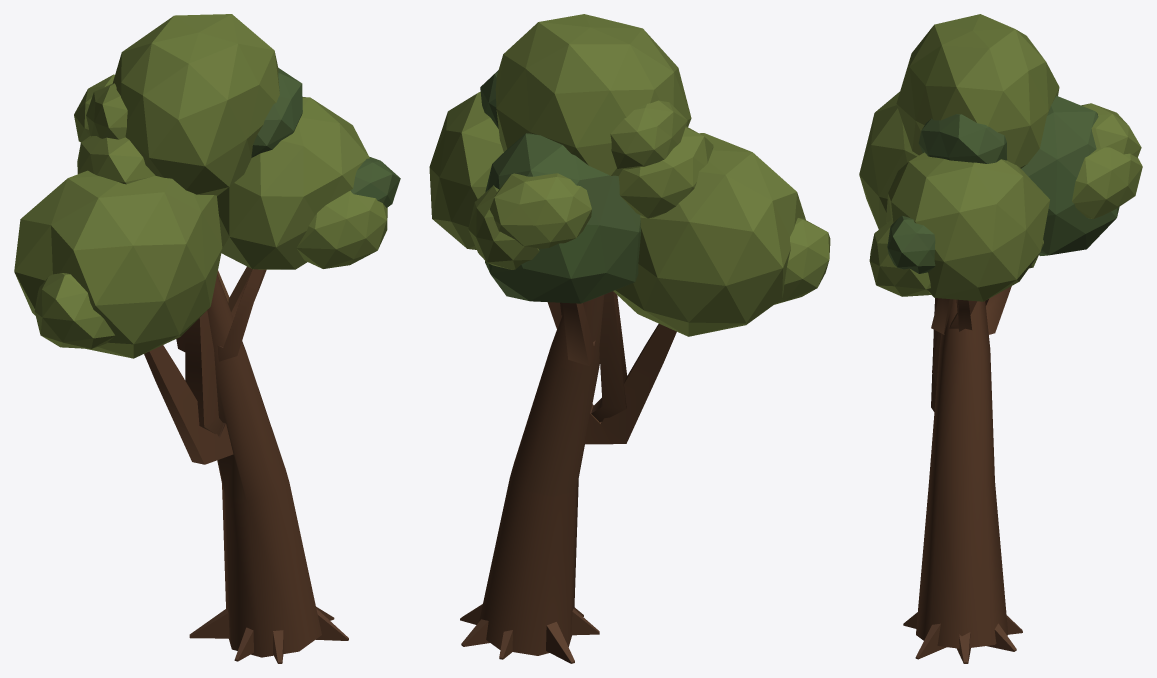
Rendered from tree_oak_c.glb.
3 renders of one model, left to right at view 1: azimuth 30°, elevation 25°; view 2: azimuth 150°, elevation 25°; view 3: azimuth 270°, elevation 25°, orthographic. The views are drawn at different scales.
Visible parts, largest first — view 1: tree_oak_c_LOD0; view 2: tree_oak_c_LOD0; view 3: tree_oak_c_LOD0.
Part boxes in pixels (<box>): tree_oak_c_LOD0: <box>14,14,400,663</box>; tree_oak_c_LOD0: <box>429,14,830,663</box>; tree_oak_c_LOD0: <box>859,14,1142,663</box>.
Size of what is drawn, in the model's own units: 4.1 by 6.78 by 3.01.
